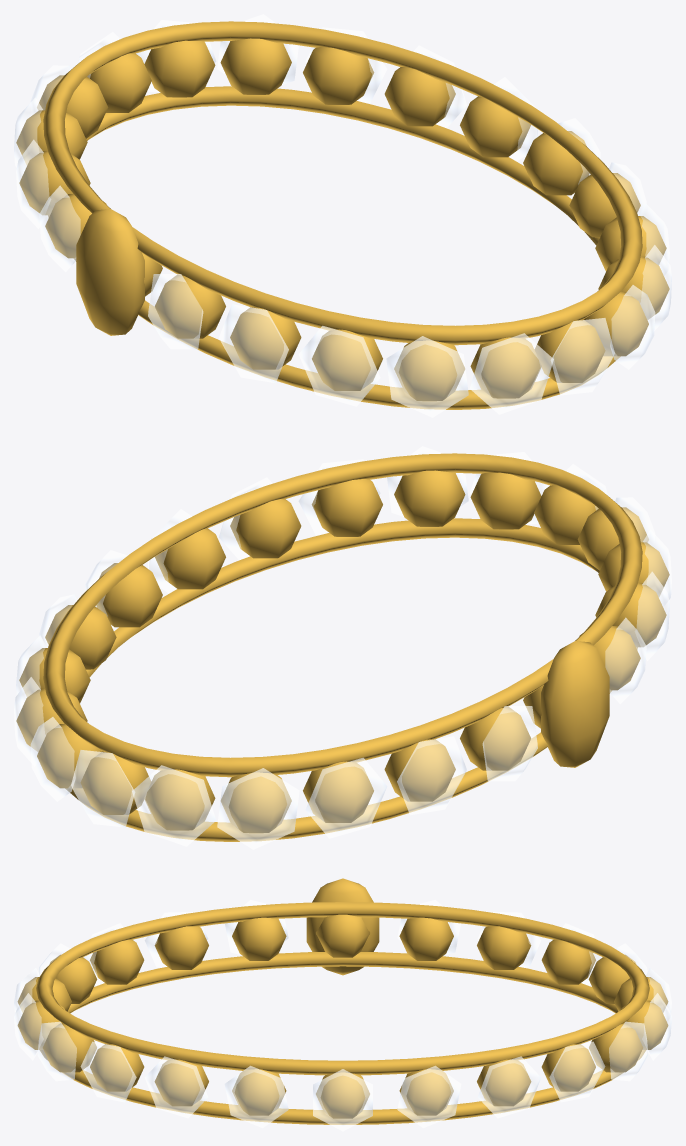
The model's file is tennis_bracelet.glb.
The picture shows the model from 3 angles, top to bottom: view 1: azimuth 30°, elevation 25°; view 2: azimuth 150°, elevation 25°; view 3: azimuth 270°, elevation 25°; orthographic projection. The views are drawn at different scales.
Parts seen in each view (by area): view 1: tennis_bracelet; view 2: tennis_bracelet; view 3: tennis_bracelet.
Boxes of the visible parts, x1,y1,x2,y2 form: tennis_bracelet: [14, 14, 671, 417]; tennis_bracelet: [14, 446, 671, 849]; tennis_bracelet: [14, 878, 671, 1131].
Bounding box in the file's own units: 0.0488 × 0.0118 × 0.0722.
